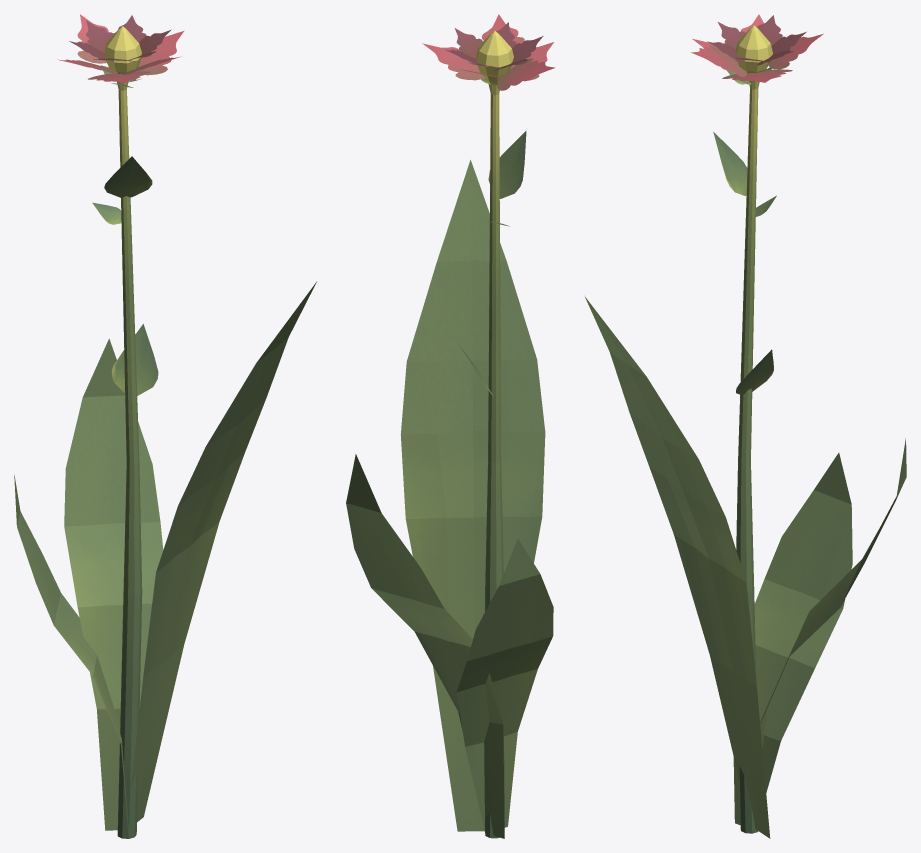
The model's file is flower.fbx.
3 renders of one model, left to right at view 1: azimuth 30°, elevation 25°; view 2: azimuth 150°, elevation 25°; view 3: azimuth 270°, elevation 25°, orthographic.
Parts seen in each view (by area): view 1: flower bud1, big petal group, small petal group; view 2: flower bud1, big petal group, small petal group; view 3: flower bud1, big petal group, small petal group.
Boxes of the visible parts, <box> form: flower bud1: <box>14,26,316,838</box>; big petal group: <box>57,14,184,83</box>; small petal group: <box>69,15,171,61</box>; flower bud1: <box>346,31,553,838</box>; big petal group: <box>422,14,555,90</box>; small petal group: <box>445,22,543,70</box>; flower bud1: <box>585,25,906,838</box>; big petal group: <box>691,14,823,82</box>; small petal group: <box>707,15,806,65</box>.
Bounding box in the file's own units: 22.89 × 92.13 × 33.52.
